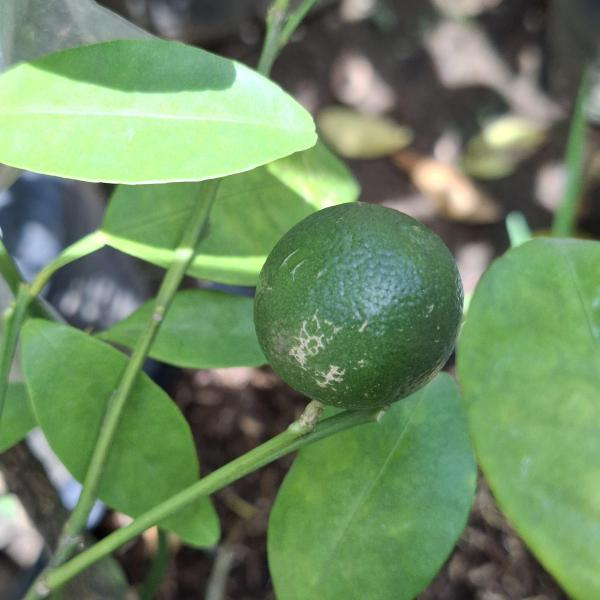Scab: (245, 192, 478, 418)
